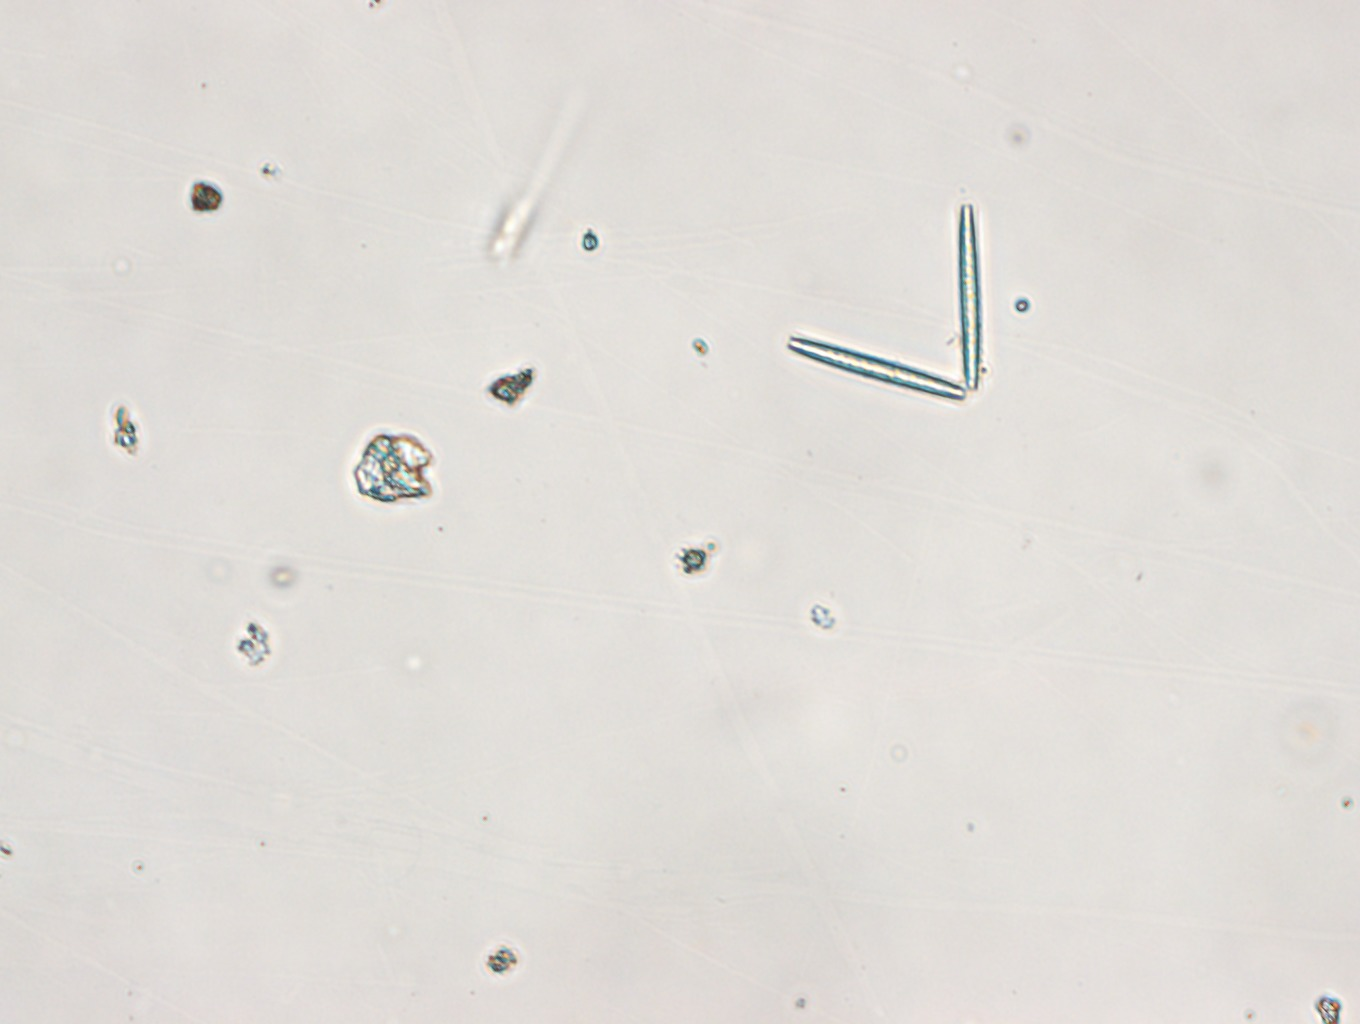thalassionema frauenfeldii: (781, 196, 1003, 400)
